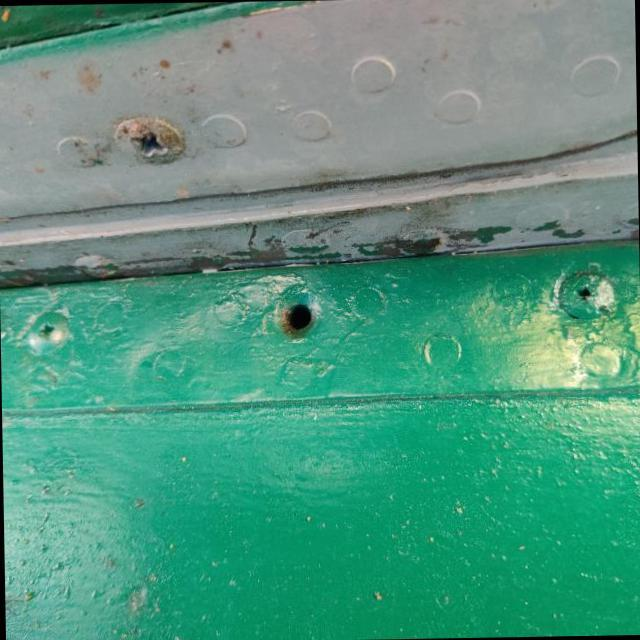Fastener Damage: (246, 268, 346, 371)
